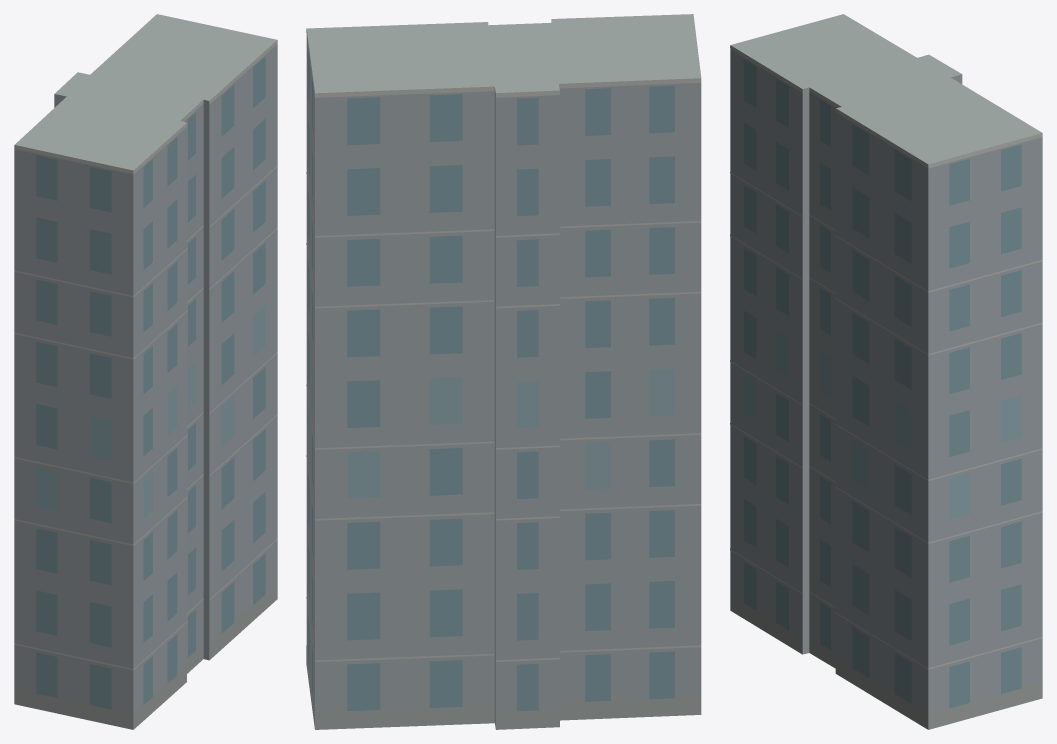
The model's file is survey-upis-32675737.glb.
3 renders of one model, left to right at view 1: azimuth 30°, elevation 25°; view 2: azimuth 150°, elevation 25°; view 3: azimuth 270°, elevation 25°, orthographic. The views are drawn at different scales.
Parts seen in each view (by area): view 1: survey-upis-32675737.tmp; view 2: survey-upis-32675737.tmp; view 3: survey-upis-32675737.tmp.
Boxes of the visible parts, bbox=[...] form: survey-upis-32675737.tmp: bbox=[14, 14, 277, 729]; survey-upis-32675737.tmp: bbox=[306, 14, 701, 729]; survey-upis-32675737.tmp: bbox=[730, 14, 1042, 729].
Bounding box in the file's own units: 19.19 × 33.6 × 16.84.
